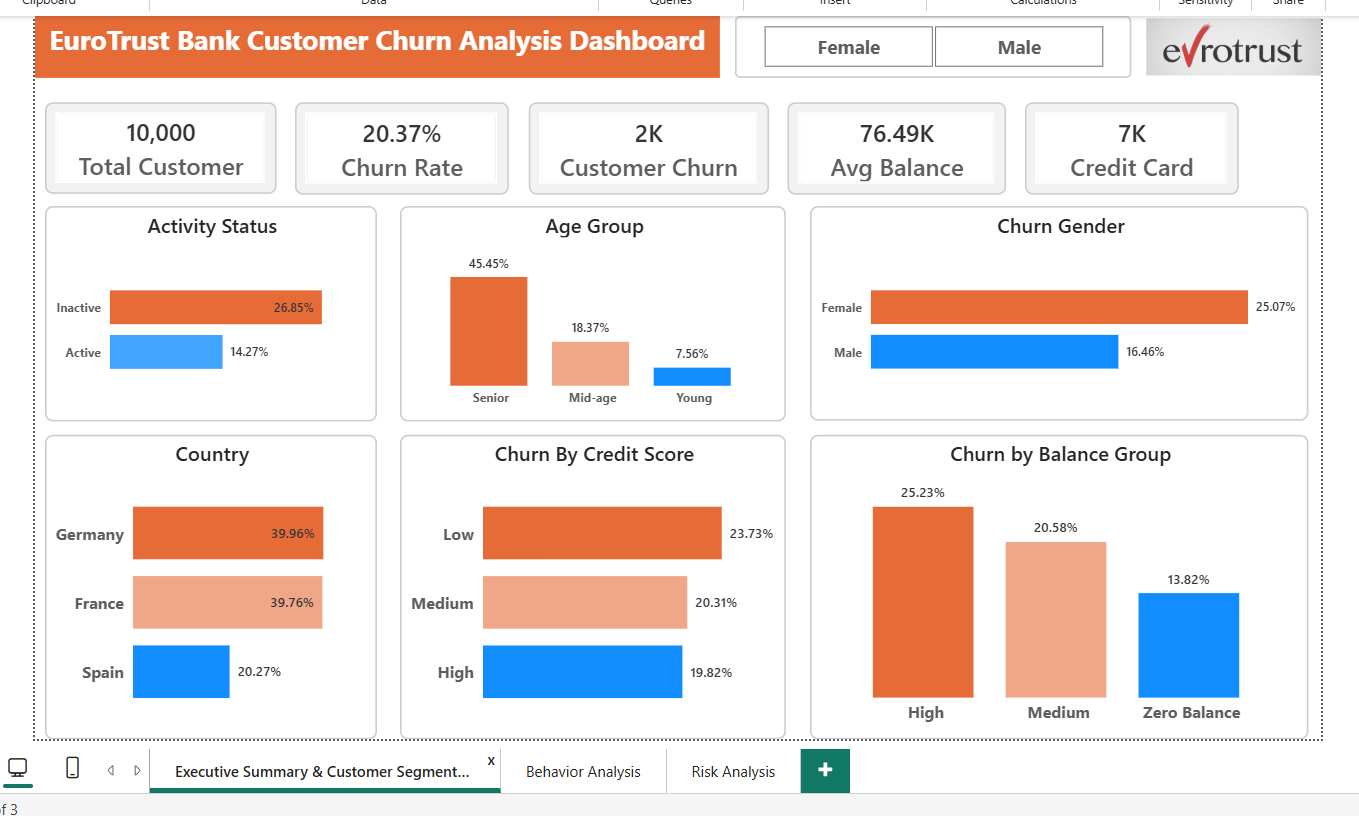

The page's visual inventory and layout, read from the dashboard file:
{"tool":"powerbi","page":{"name":"Executive Summary &  Customer Segmentation","canvas":[1280,720],"ordinal":0},"visuals":[{"type":"textbox","box":[0,0,681.4,61.4],"z":0},{"type":"cardVisual","fields":{"Data":["CountNonNull(Churn_Analysis.CustomerId)"]},"box":[10,85.7,230,91.4],"z":1000},{"type":"cardVisual","fields":{"Data":["Churn_Analysis.Churned Customers"]},"box":[490.7,85.8,238.8,92.1],"z":2000},{"type":"cardVisual","fields":{"Data":["Churn_Analysis.Churn Rate"]},"box":[259.1,85.8,212.7,92.1],"z":3000},{"type":"cardVisual","fields":{"Data":["Churn_Analysis.Avg Balance"]},"box":[748.6,85.8,217.7,92.1],"z":4000},{"type":"cardVisual","fields":{"Data":["Churn_Analysis.creditcard_holder"]},"box":[985.2,85.8,212.7,92.1],"z":5000},{"type":"barChart","title":"Activity Status vs Churn Rate","fields":{"Category":["Churn_Analysis.Activity_Status"],"Y":["Churn_Analysis.Churn Rate"]},"box":[10,188.6,330,214.3],"z":6000},{"type":"barChart","title":"Country","fields":{"Category":["Churn_Analysis.Geography"],"Y":["Sum(Churn_Analysis.Exited)"]},"box":[10,417.1,330,302.9],"z":7000},{"type":"slicer","fields":{"Values":["Churn_Analysis.Gender"]},"box":[697.1,0,394.3,61.4],"z":8000},{"type":"image","box":[1105.7,0,174.3,61.4],"z":9000},{"type":"columnChart","title":" Age Group","fields":{"Category":["Churn_Analysis.Age_Group"],"Y":["Churn_Analysis.Churn Rate"]},"box":[363.5,188.6,384.3,214.3],"z":10000},{"type":"barChart","title":"Churn  Gender","fields":{"Category":["Churn_Analysis.Gender"],"Y":["Churn_Analysis.Churn Rate"]},"box":[771.3,189.1,496.3,214],"z":11000},{"type":"clusteredBarChart","title":"Churn By Credit Score","fields":{"Category":["Churn_Analysis.Credit_Category"],"Y":["Churn_Analysis.Churn Rate"]},"box":[363.5,417,384,303],"z":12000},{"type":"clusteredColumnChart","title":"Churn  by Balance Group","fields":{"Category":["Churn_Analysis.Balance_Group"],"Y":["Churn_Analysis.Churn Rate"]},"box":[771,417,496,303],"z":13000}]}

Visuals, with their boxes on the page's 1280x720 design canvas (x1, y1, x2, y2). These are canvas units, not pixel positions in the 1359x816 screenshot, which may show the page scaled, cropped or inside an application window:
textbox: {"left": 0, "top": 0, "right": 681, "bottom": 61}
cardVisual - CountNonNull(Churn_Analysis.CustomerId): {"left": 10, "top": 86, "right": 240, "bottom": 177}
cardVisual - Churn_Analysis.Churned Customers: {"left": 491, "top": 86, "right": 730, "bottom": 178}
cardVisual - Churn_Analysis.Churn Rate: {"left": 259, "top": 86, "right": 472, "bottom": 178}
cardVisual - Churn_Analysis.Avg Balance: {"left": 749, "top": 86, "right": 966, "bottom": 178}
cardVisual - Churn_Analysis.creditcard_holder: {"left": 985, "top": 86, "right": 1198, "bottom": 178}
"Activity Status vs Churn Rate" barChart: {"left": 10, "top": 189, "right": 340, "bottom": 403}
"Country" barChart: {"left": 10, "top": 417, "right": 340, "bottom": 720}
slicer - Churn_Analysis.Gender: {"left": 697, "top": 0, "right": 1091, "bottom": 61}
image: {"left": 1106, "top": 0, "right": 1280, "bottom": 61}
" Age Group" columnChart: {"left": 364, "top": 189, "right": 748, "bottom": 403}
"Churn  Gender" barChart: {"left": 771, "top": 189, "right": 1268, "bottom": 403}
"Churn By Credit Score" clusteredBarChart: {"left": 364, "top": 417, "right": 748, "bottom": 720}
"Churn  by Balance Group" clusteredColumnChart: {"left": 771, "top": 417, "right": 1267, "bottom": 720}
